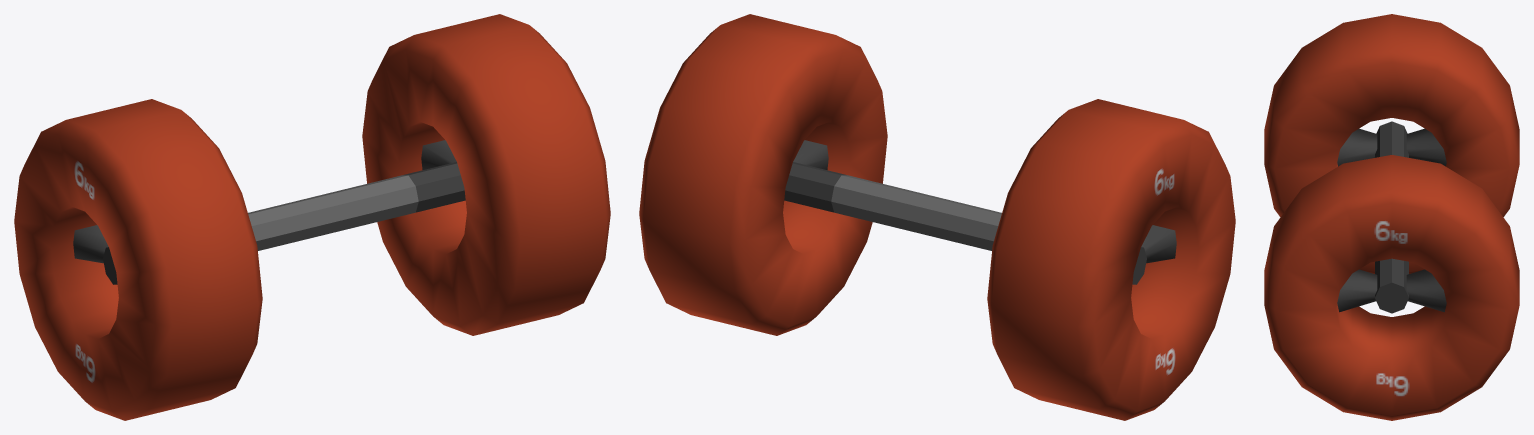
The model's file is Dumbbells_2.fbx.
3 renders of one model, left to right at view 1: azimuth 30°, elevation 25°; view 2: azimuth 150°, elevation 25°; view 3: azimuth 270°, elevation 25°, orthographic. The views are drawn at different scales.
Parts seen in each view (by area): view 1: Dumbbells_2; view 2: Dumbbells_2; view 3: Dumbbells_2.
Boxes of the visible parts, x1=… form: Dumbbells_2: x1=14, y1=14, x2=610, y2=420; Dumbbells_2: x1=639, y1=14, x2=1235, y2=420; Dumbbells_2: x1=1264, y1=14, x2=1519, y2=420.
Size of the model in its own units: 39.94 by 23.42 by 23.42.
